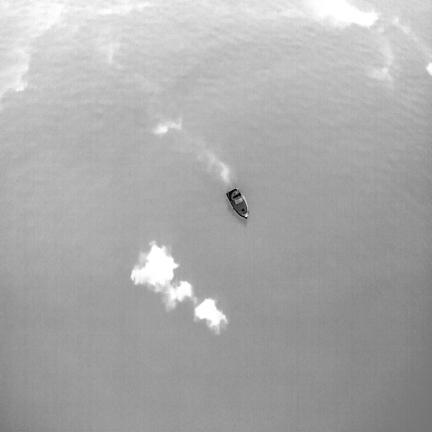flukeprints: (131, 242, 178, 290), (195, 299, 227, 333), (170, 281, 196, 305)
